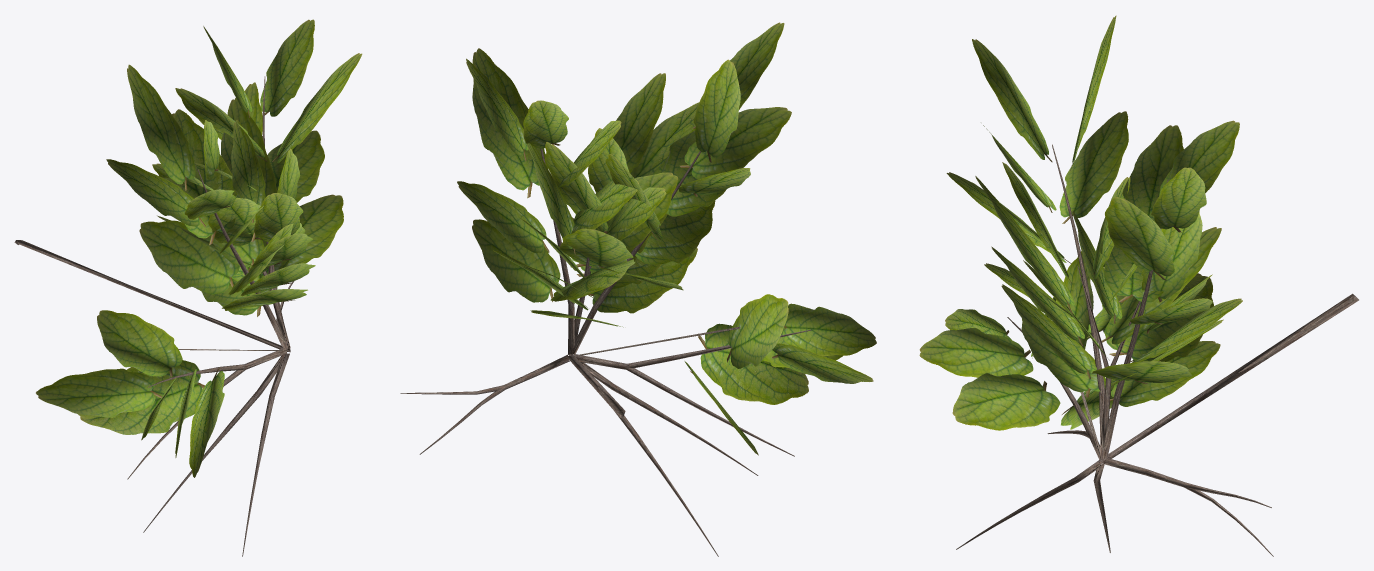
Rendered from bosje1.fbx.
The picture shows the model from 3 angles, left to right: view 1: azimuth 30°, elevation 25°; view 2: azimuth 150°, elevation 25°; view 3: azimuth 270°, elevation 25°; orthographic projection. The views are drawn at different scales.
Parts seen in each view (by area): view 1: Tree_1, Tree_0; view 2: Tree_1, Tree_0; view 3: Tree_1, Tree_0.
Part boxes in pixels (left/top/right/bottom): Tree_1: left=36, top=19, right=362, bottom=477; Tree_0: left=14, top=76, right=294, bottom=556; Tree_1: left=457, top=22, right=876, bottom=455; Tree_0: left=400, top=148, right=810, bottom=556; Tree_1: left=919, top=15, right=1242, bottom=430; Tree_0: left=956, top=144, right=1358, bottom=556.
Bounding box in the file's own units: 255 × 324 × 244.
2 materials, 2 textured.
